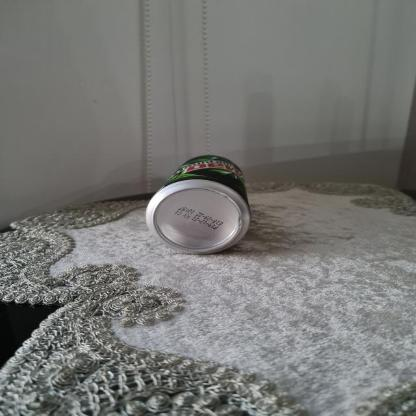Can: (146, 152, 252, 256)
